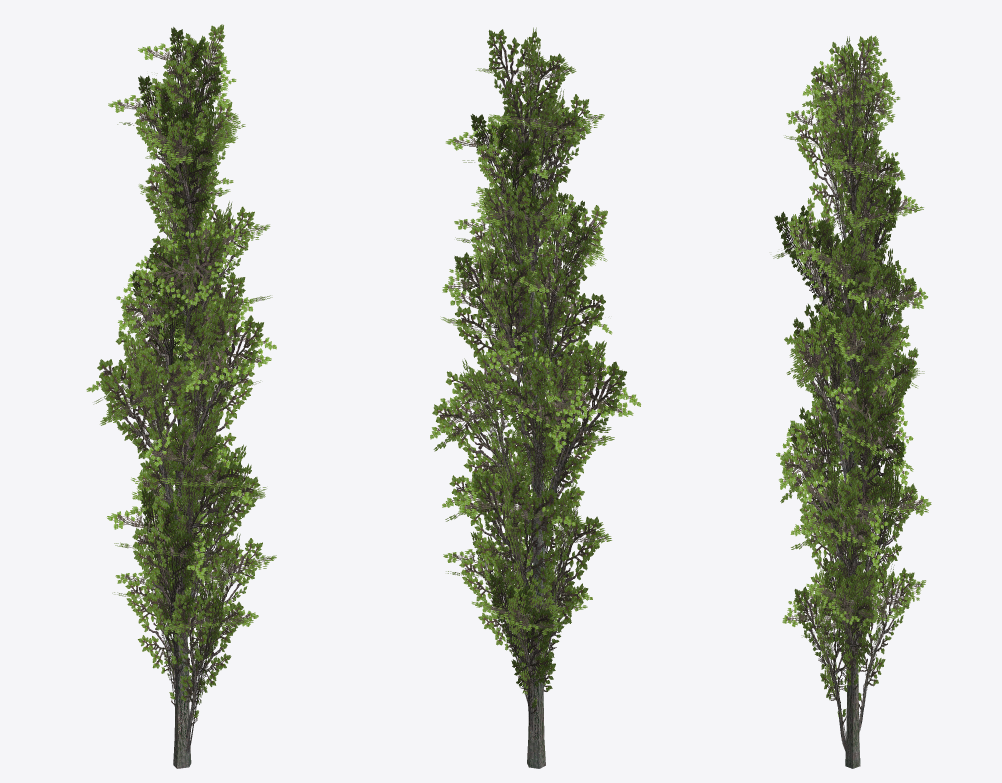
Rendered from poplar.glb.
The picture shows the model from 3 angles, left to right: view 1: azimuth 30°, elevation 25°; view 2: azimuth 150°, elevation 25°; view 3: azimuth 270°, elevation 25°; orthographic projection.
Parts seen in each view (by area): view 1: lombardy_poplar_01; view 2: lombardy_poplar_01; view 3: lombardy_poplar_01.
Part boxes in pixels (bbox=[...]): lombardy_poplar_01: bbox=[86, 24, 276, 768]; lombardy_poplar_01: bbox=[430, 27, 640, 768]; lombardy_poplar_01: bbox=[773, 35, 931, 768].
Size of the model in its own units: 9.06 by 20.81 by 7.04.
Materials: 1 (1 with a texture image).
